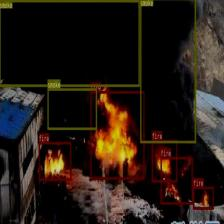fire: (90, 91, 144, 179), (160, 156, 193, 204), (39, 142, 71, 180), (152, 139, 176, 182), (192, 186, 214, 210)
smoke: (0, 0, 139, 86), (140, 0, 195, 142), (47, 88, 97, 129)
